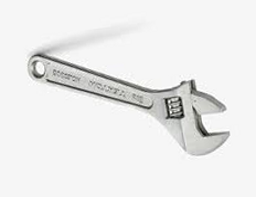Wrench: (26, 42, 252, 166)
